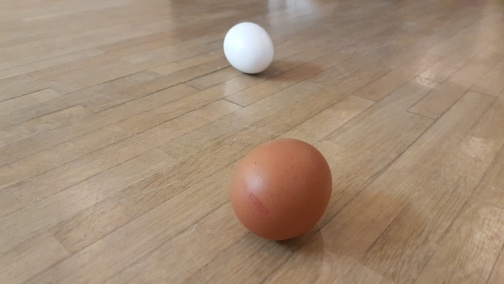egg: (227, 135, 334, 243), (222, 20, 276, 76)
